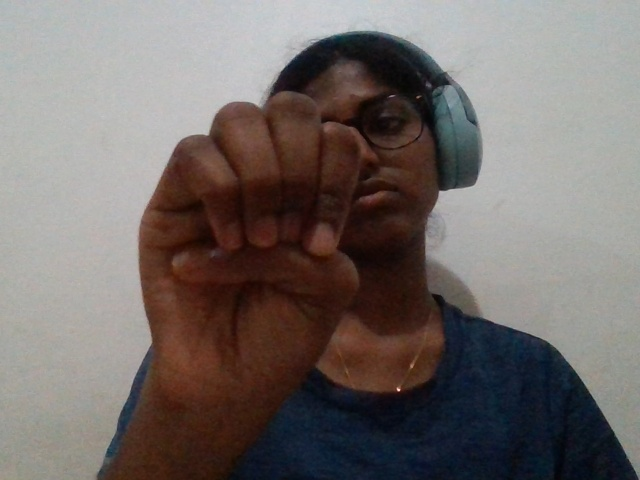E: (97, 73, 378, 451)
